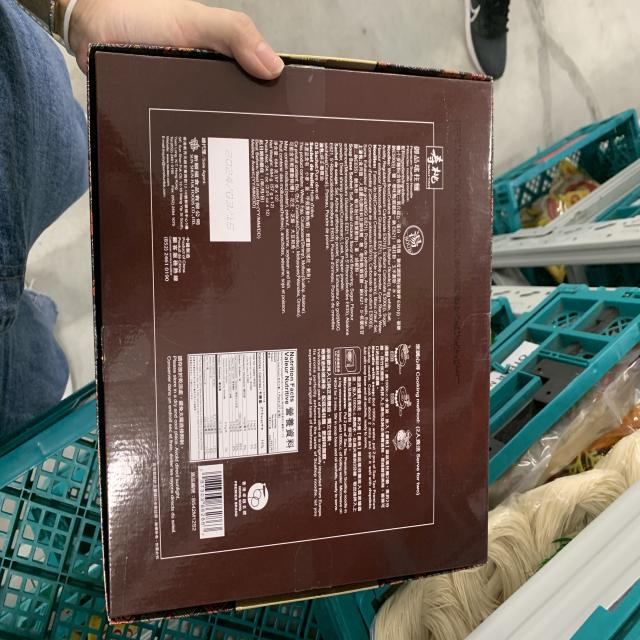object_name: (91, 60, 488, 576)
